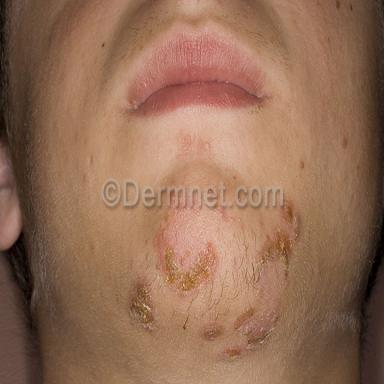Impetigo: (164, 243, 217, 293), (235, 307, 279, 348), (260, 228, 292, 277), (130, 283, 154, 328), (283, 201, 300, 241), (203, 322, 223, 341), (227, 348, 240, 358)
